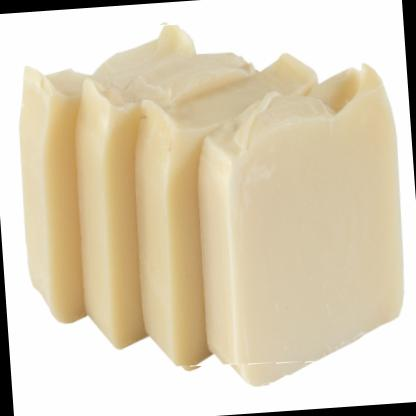soap: (0, 7, 415, 383)
